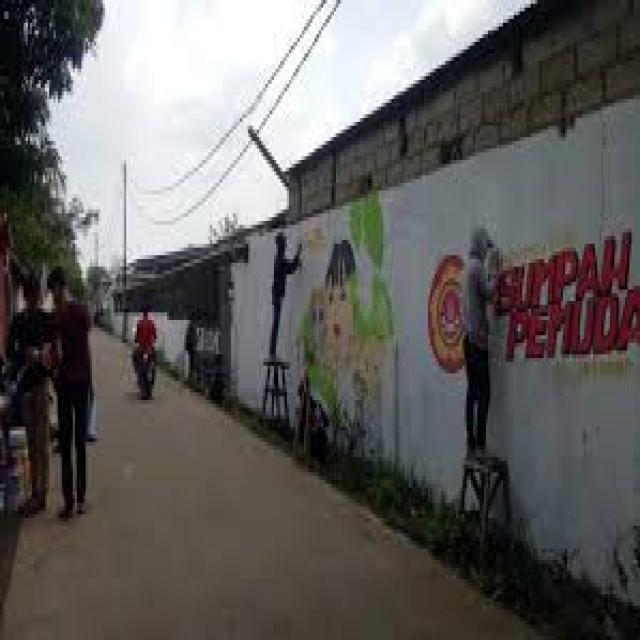-: (424, 227, 640, 376), (292, 190, 396, 428)
